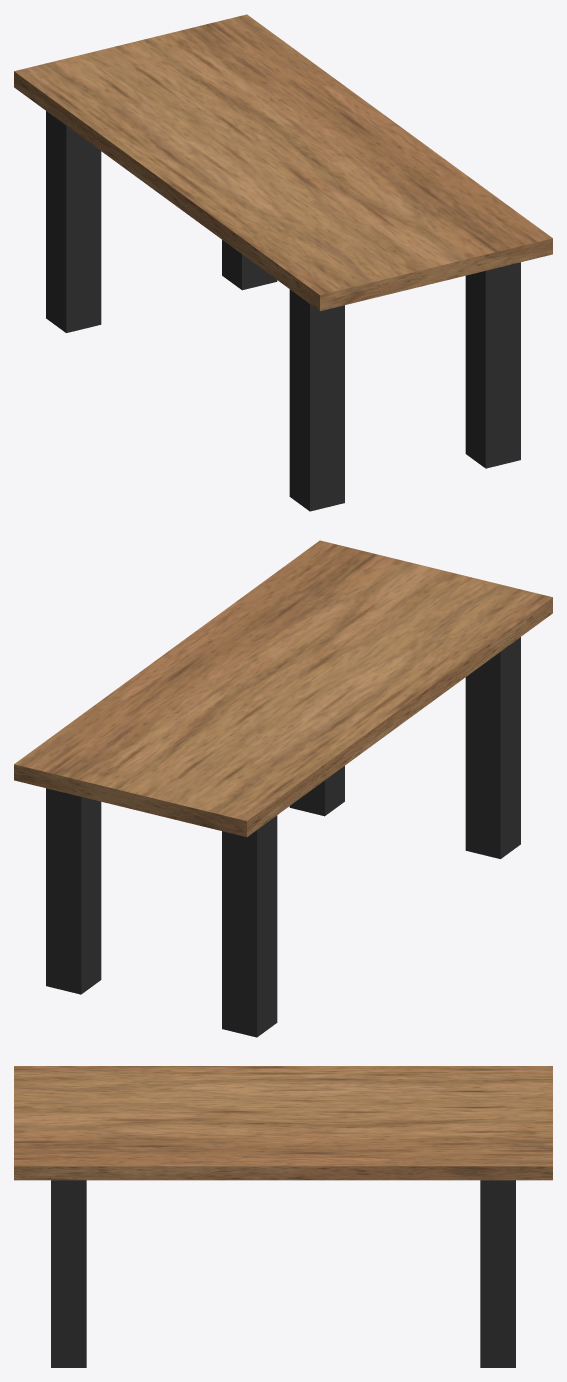
Rendered from biurko.obj.
3 views of the same model, one above another, from view 1: azimuth 30°, elevation 25°; view 2: azimuth 150°, elevation 25°; view 3: azimuth 270°, elevation 25° (orthographic). The views are drawn at different scales.
Visible parts, largest first — view 1: Kostka.001_Kostka.002, Kostka_Kostka.001; view 2: Kostka.001_Kostka.002, Kostka_Kostka.001; view 3: Kostka.001_Kostka.002, Kostka_Kostka.001.
Part boxes in pixels (x1,y1,x2,y2): Kostka.001_Kostka.002: (14, 14, 552, 310); Kostka_Kostka.001: (46, 111, 520, 511); Kostka.001_Kostka.002: (14, 540, 552, 836); Kostka_Kostka.001: (46, 637, 520, 1037); Kostka.001_Kostka.002: (14, 1066, 552, 1180); Kostka_Kostka.001: (51, 1180, 515, 1367).
Size of the model in its own units: 0.8796 by 0.8456 by 2.
